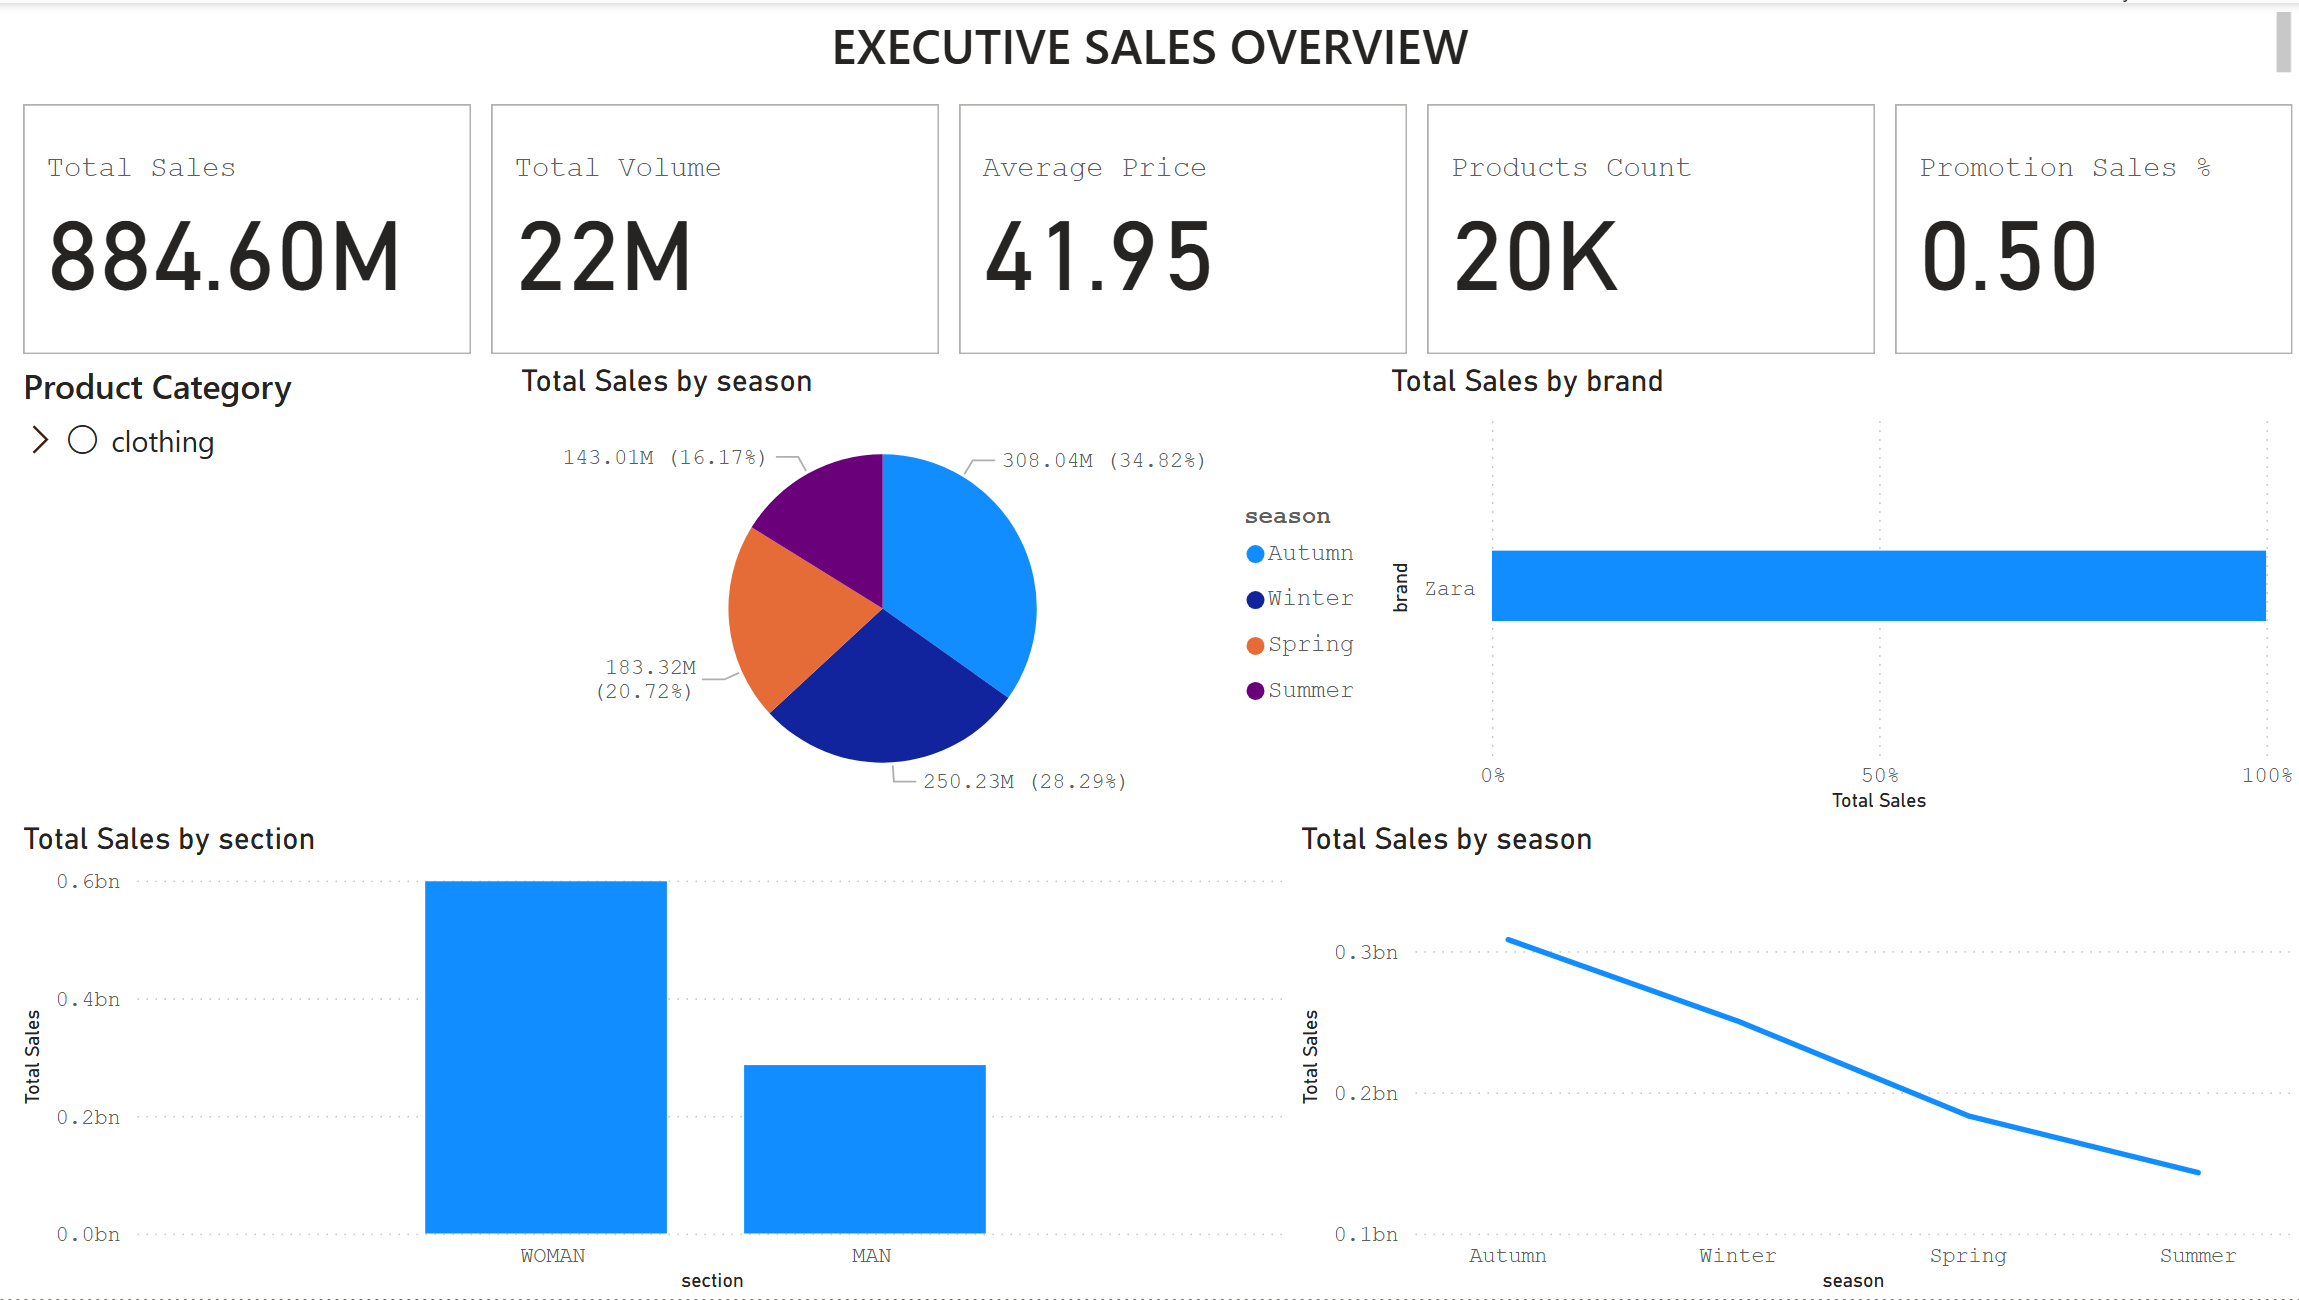

Layout of this report page (visuals, bound fields, positions):
{"tool":"powerbi","page":{"name":"EXECUTIVE OVERVIEW","canvas":[1280,720],"ordinal":1},"visuals":[{"type":"textbox","box":[9.9,0,1270.1,50.8],"z":0},{"type":"cardVisual","fields":{"Data":["Sales.Total Sales"]},"box":[9.9,50.8,260,149.8],"z":1000},{"type":"cardVisual","fields":{"Data":["Sales.Total Volume"]},"box":[269.9,50.8,260,149.8],"z":2000},{"type":"cardVisual","fields":{"Data":["Sales.Average Price"]},"box":[529.8,50.8,260,149.8],"z":3000},{"type":"cardVisual","fields":{"Data":["Sales.Products Count"]},"box":[789.8,50.8,260,149.8],"z":4000},{"type":"cardVisual","fields":{"Data":["Sales.Promotion Sales %"]},"box":[1049.7,50.8,231.5,149.8],"z":5000},{"type":"clusteredColumnChart","fields":{"Y":["Sales.Total Sales"],"Category":["Sales.section"]},"box":[9.9,454.3,711.8,266.2],"z":6000},{"type":"hundredPercentStackedBarChart","fields":{"Category":["Sales.brand"],"Y":["Sales.Total Sales"]},"box":[770,200.5,511.3,253.8],"z":7000},{"type":"pieChart","fields":{"Category":["Sales.season"],"Y":["Sales.Total Sales"]},"box":[287.2,200.5,482.8,253.8],"z":8000},{"type":"lineChart","fields":{"Category":["Sales.season"],"Y":["Sales.Total Sales"]},"box":[720.5,454.3,559.5,266.2],"z":9000},{"type":"listSlicer","fields":{"Values":["Sales.Product Category","Sales.brand","Sales.Promotion","Sales.season","Sales.Seasonal","Sales.section"]},"box":[9.9,200.5,277.3,253.8],"z":10000}]}

Visuals, with their boxes in screenshot pixels (x1, y1, x2, y2), scaled from the page's 1280x720 canvas onto the 2299x1300 screenshot:
textbox: {"x1": 18, "y1": 0, "x2": 2298, "y2": 92}
cardVisual - Sales.Total Sales: {"x1": 18, "y1": 92, "x2": 485, "y2": 362}
cardVisual - Sales.Total Volume: {"x1": 485, "y1": 92, "x2": 952, "y2": 362}
cardVisual - Sales.Average Price: {"x1": 952, "y1": 92, "x2": 1419, "y2": 362}
cardVisual - Sales.Products Count: {"x1": 1419, "y1": 92, "x2": 1886, "y2": 362}
cardVisual - Sales.Promotion Sales %: {"x1": 1885, "y1": 92, "x2": 2298, "y2": 362}
clusteredColumnChart - Sales.Total Sales x Sales.section: {"x1": 18, "y1": 820, "x2": 1296, "y2": 1299}
hundredPercentStackedBarChart - Sales.brand x Sales.Total Sales: {"x1": 1383, "y1": 362, "x2": 2298, "y2": 820}
pieChart - Sales.season x Sales.Total Sales: {"x1": 516, "y1": 362, "x2": 1383, "y2": 820}
lineChart - Sales.season x Sales.Total Sales: {"x1": 1294, "y1": 820, "x2": 2298, "y2": 1299}
listSlicer - Sales.Product Category x Sales.brand: {"x1": 18, "y1": 362, "x2": 516, "y2": 820}
